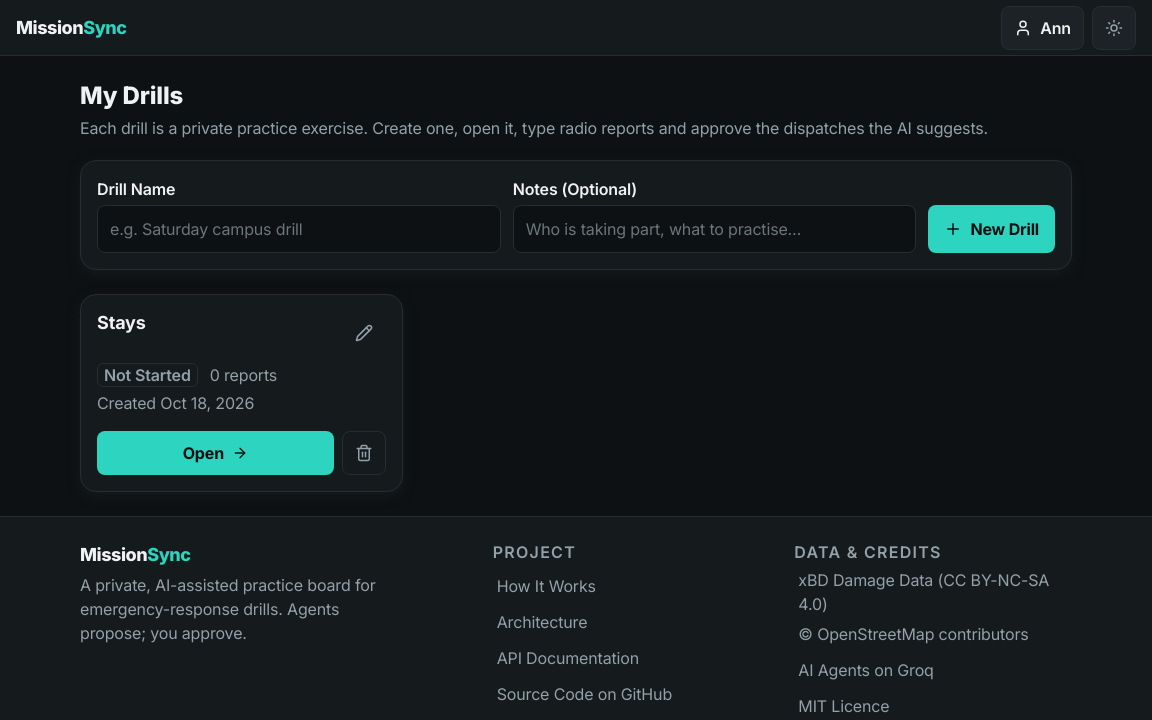
it: My Drills — create, read, update, delete with optimistic UI › delete: cancelling keeps everything, and a failed delete puts the card back
Click the button named "Delete Stays": (364,453) top-left (342, 431), bottom-right (386, 475)
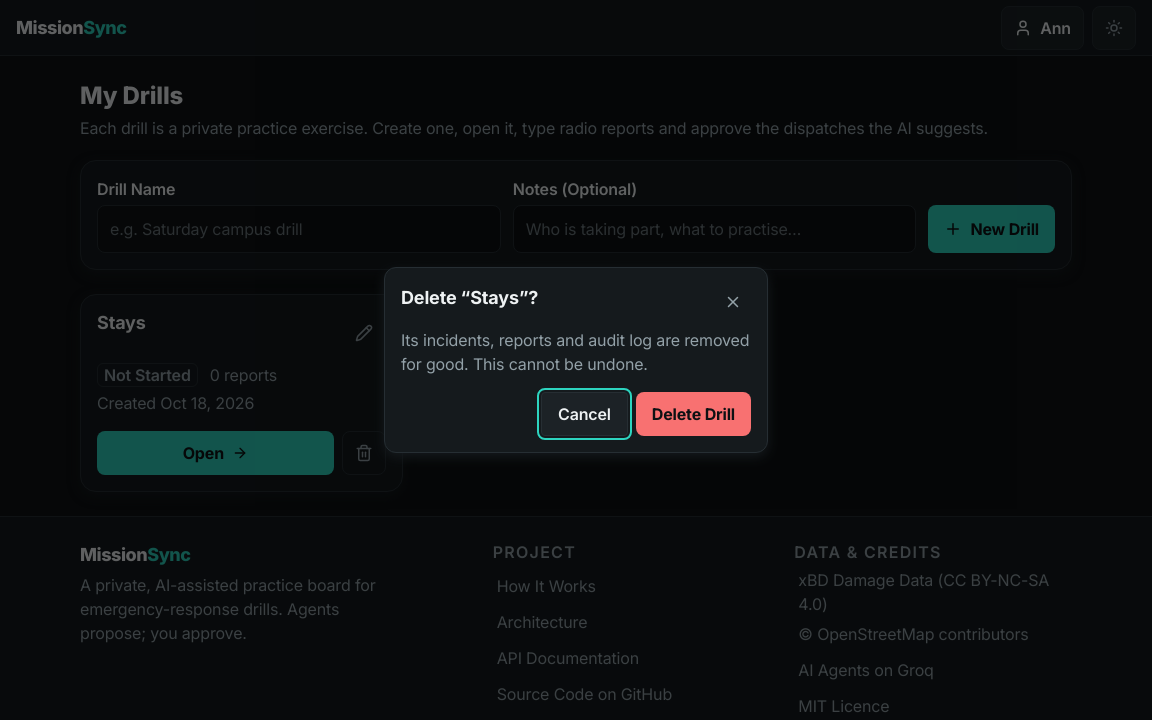
Click the button "Cancel": (584,414) top-left (541, 392), bottom-right (628, 436)
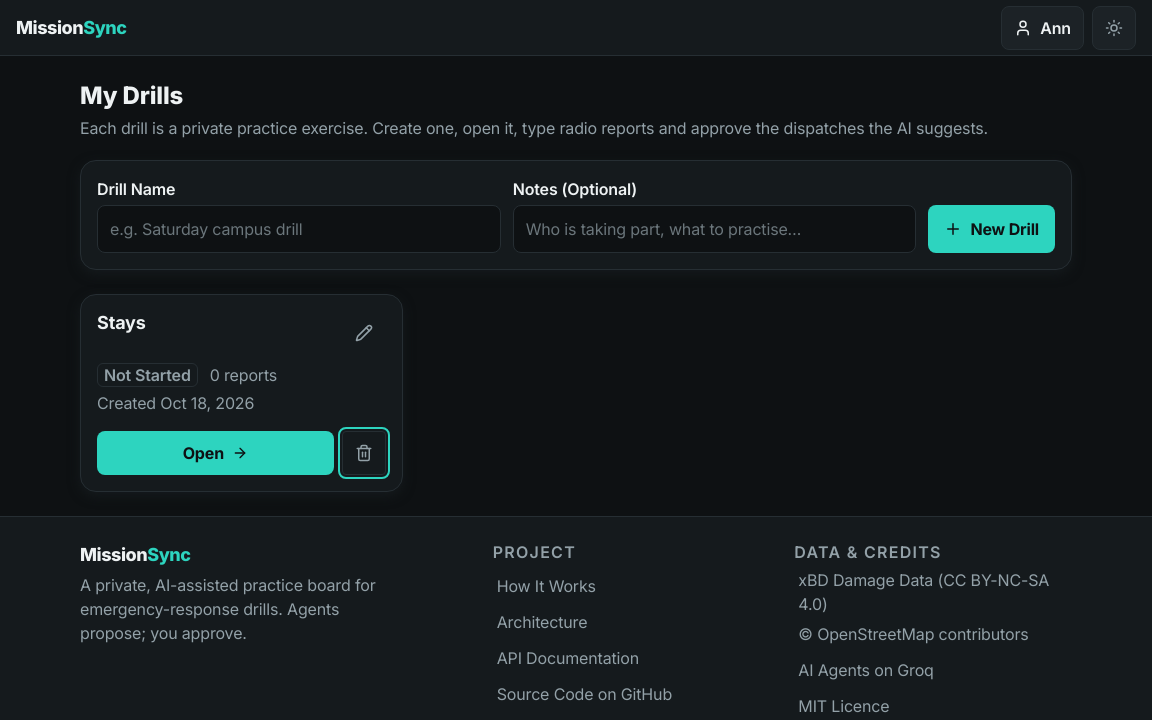
Expected: the heading "Stays" is shown, top-left (97, 312), bottom-right (146, 333)
Click the button named "Delete Stays": (364,453) top-left (342, 431), bottom-right (386, 475)
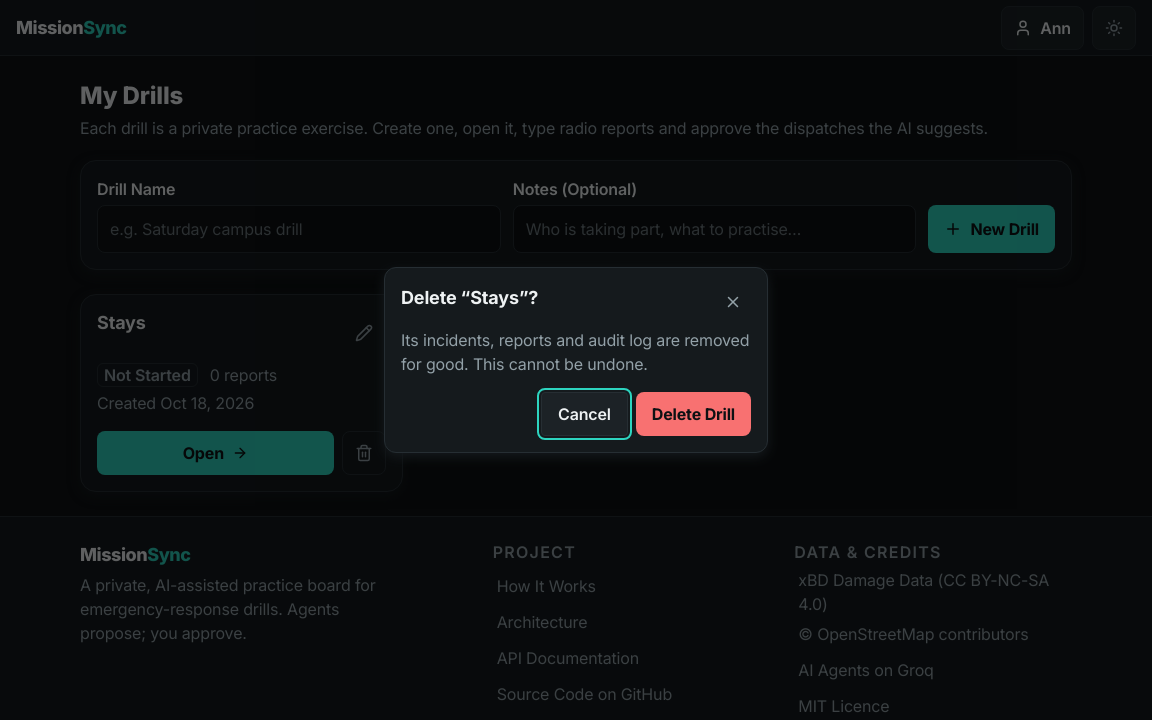
Click the button "Delete Drill": (693,414) top-left (636, 392), bottom-right (751, 436)
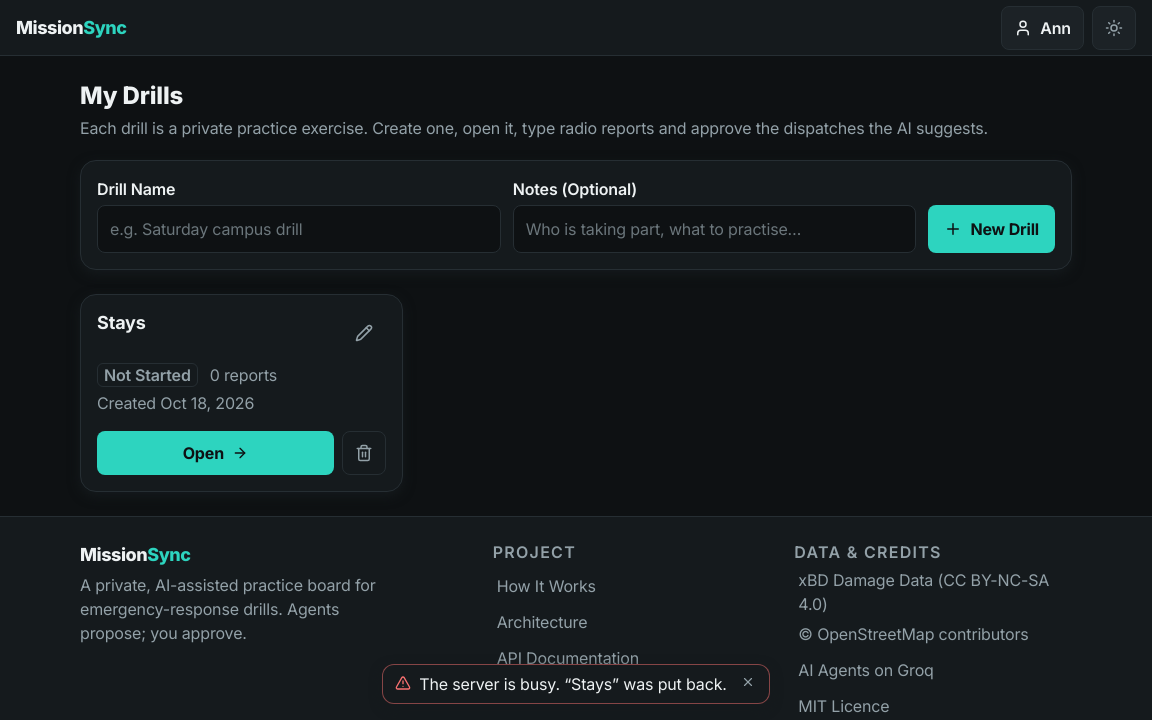
Expected: the heading "Stays" is shown, top-left (97, 312), bottom-right (146, 333)
Expected: the text "The server is busy. “Stays” was put back." is shown, top-left (419, 673), bottom-right (727, 695)
